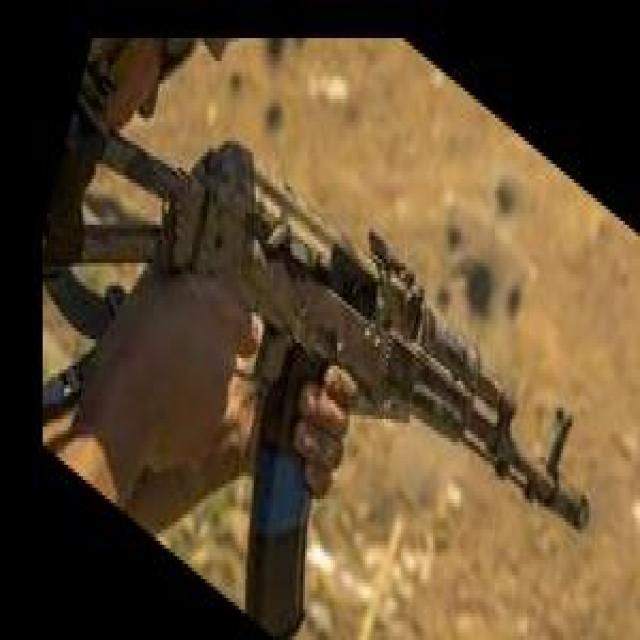Rifle: (42, 96, 591, 640)
